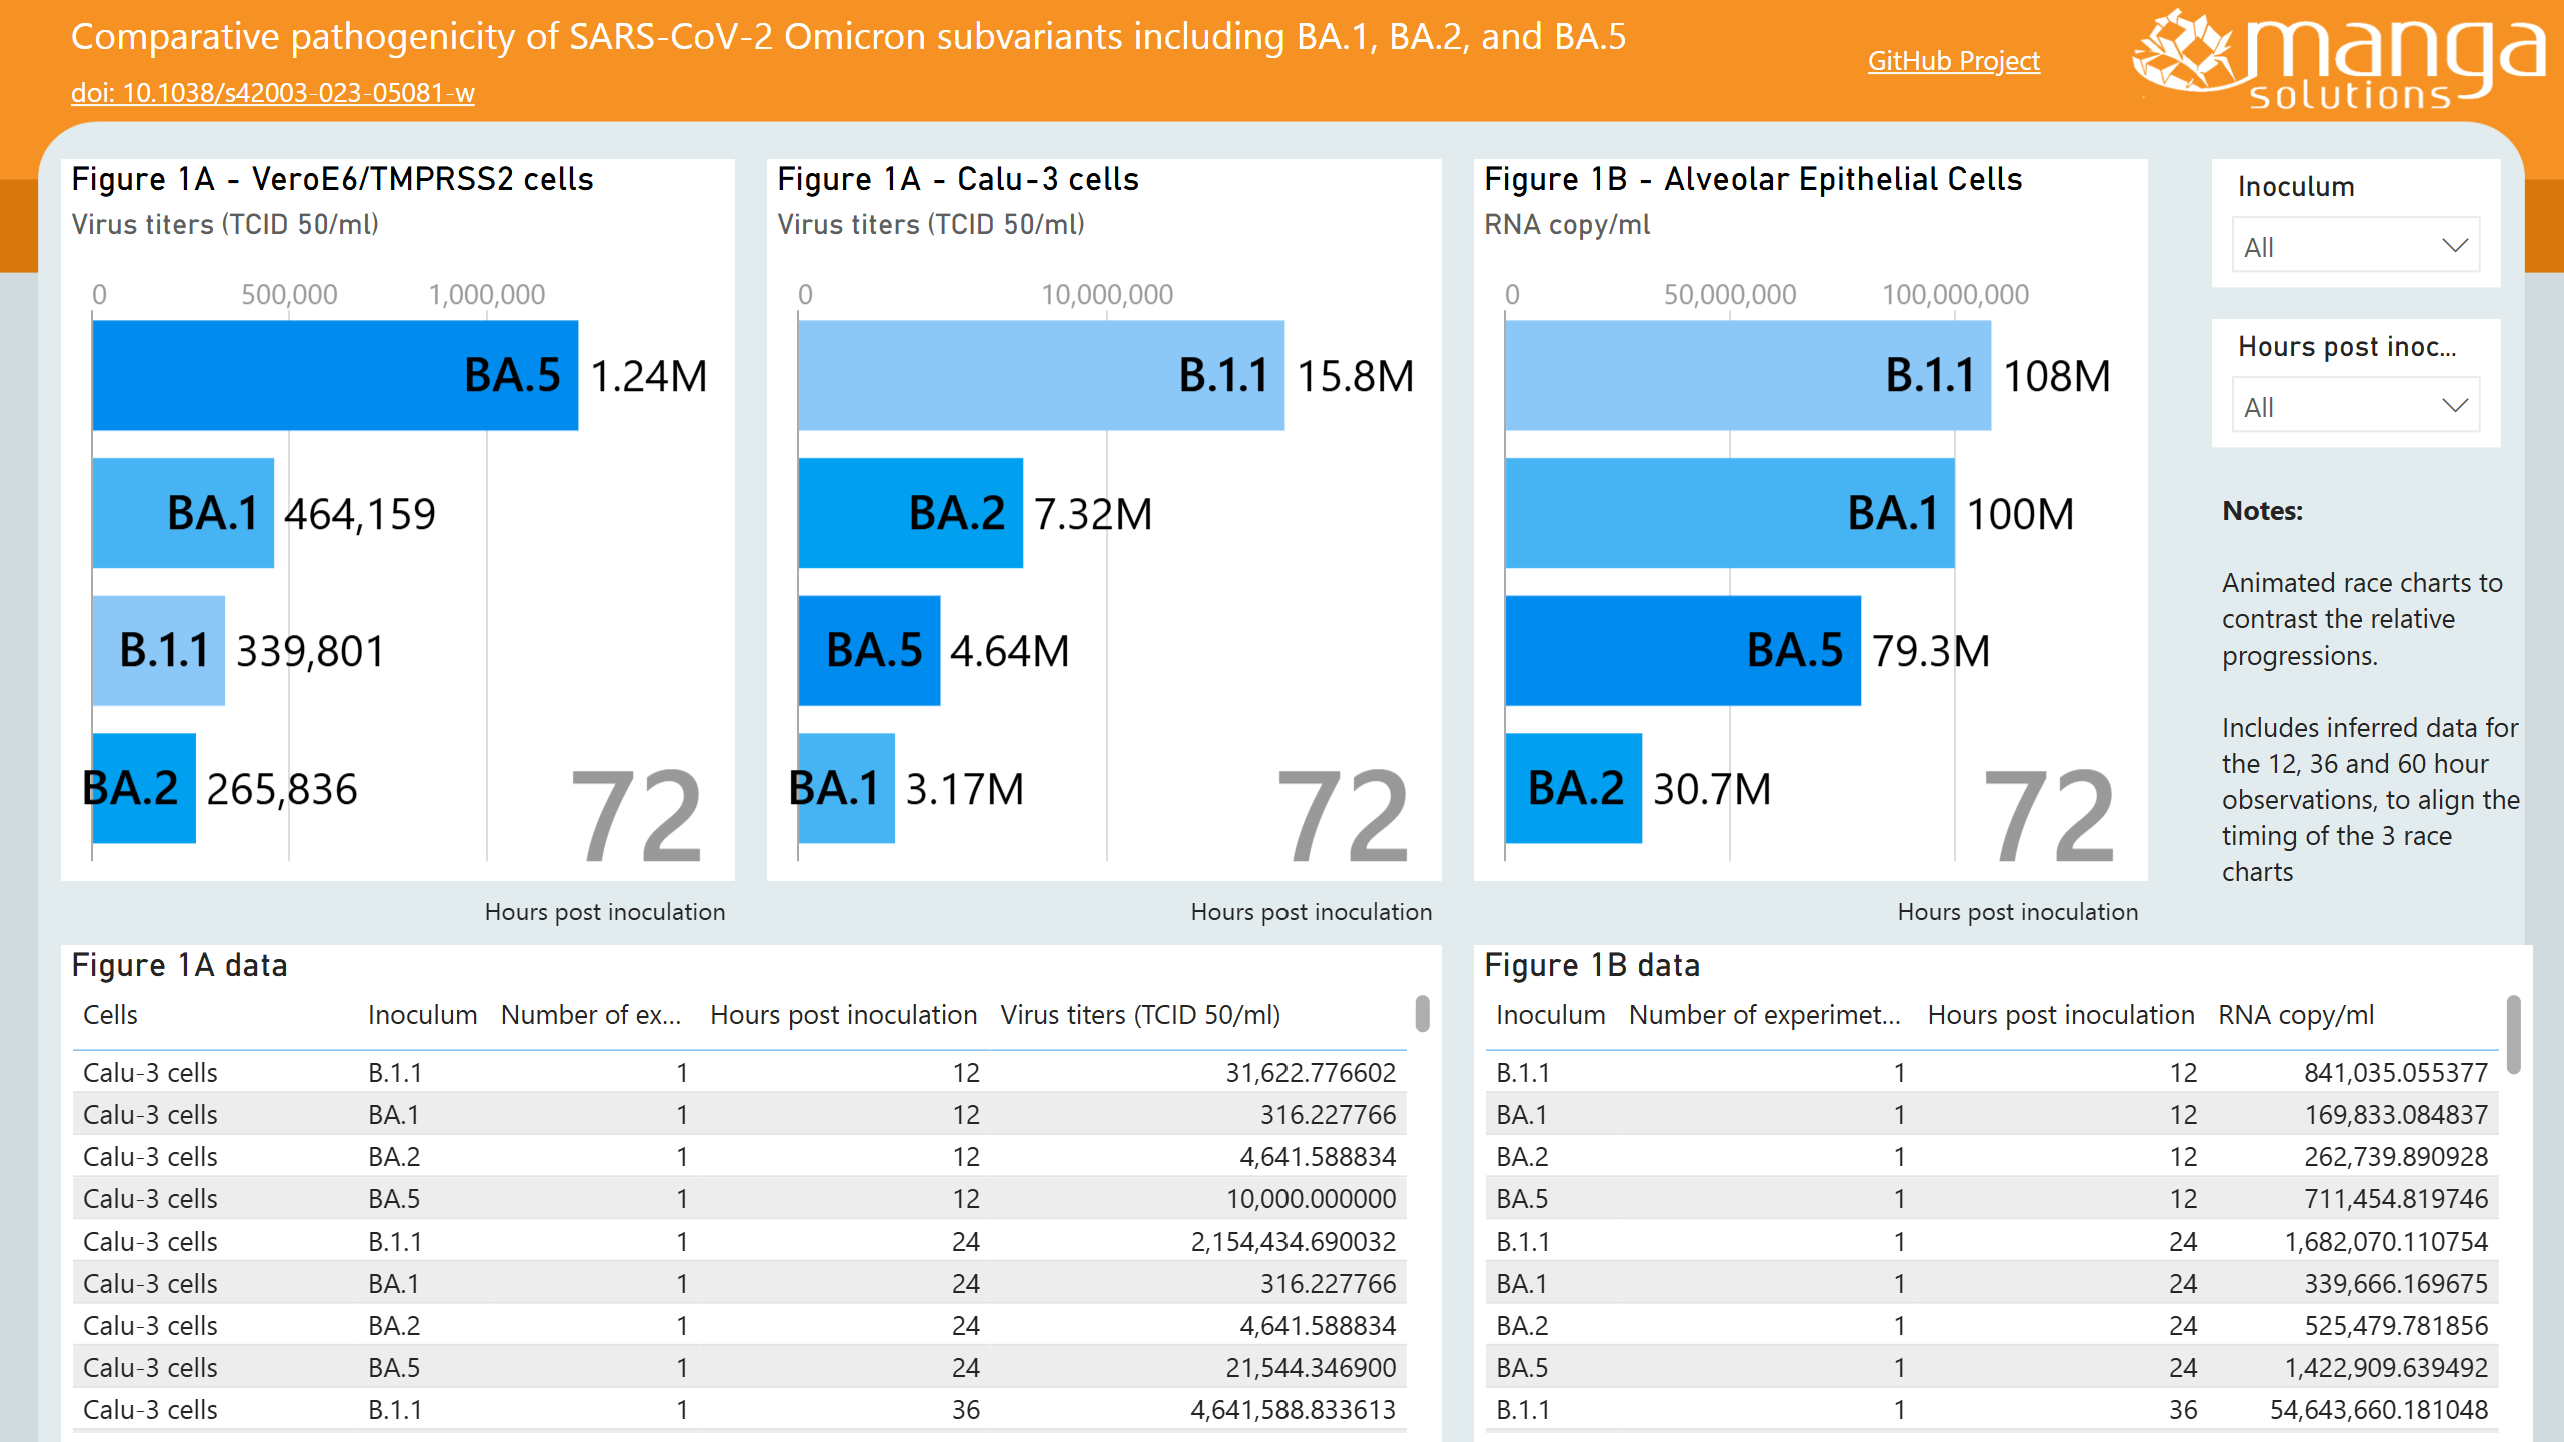

This screenshot's page, from the dashboard's own definition file:
{"tool":"powerbi","page":{"name":"Race Charts","canvas":[1280,720],"ordinal":3},"visuals":[{"type":"slicer","fields":{"Values":["Inoculums.Inoculum"]},"box":[1104,80,144,64],"z":0},{"type":"tableEx","title":"Figure 1A data","fields":{"Values":["Figure 1A.Cells","Inoculums.Inoculum","Figure 1A.Number of experimetal data","Hours.Hours post inoculation","Figure 1A.# Virus titers (TCID 50/ml) - 6 dec"]},"box":[32,472,688,248],"z":1000},{"type":"textbox","box":[32,0,864,48],"z":3000},{"type":"actionButton","box":[1056,0,224,64],"z":4000},{"type":"textbox","box":[32,32,304,32],"z":6000},{"type":"wishyoulizationbarchartrace","title":"Figure 1B - Alveolar Epithelial Cells","fields":{"name":["Inoculums.Inoculum"],"year":["Hours.Hours post inoculation"],"value":["Figure 1B.# RNA copy/ml - 6 dec"]},"box":[736,80,336,360],"z":7000},{"type":"tableEx","title":"Figure 1B data","fields":{"Values":["Inoculums.Inoculum","Figure 1B.Number of experimetal data","Hours.Hours post inoculation","Figure 1B.# RNA copy/ml - 6 dec"]},"box":[736,472,528,248],"z":8000},{"type":"slicer","fields":{"Values":["Hours.Hours post inoculation"]},"box":[1104,160,144,64],"z":9000},{"type":"wishyoulizationbarchartrace","title":"Figure 1A - VeroE6/TMPRSS2 cells","fields":{"name":["Inoculums.Inoculum"],"year":["Hours.Hours post inoculation"],"value":["Figure 1A.# Virus titers (TCID 50/ml) - 6 dec"]},"box":[32,80,336,360],"z":9001},{"type":"wishyoulizationbarchartrace","title":"Figure 1A - Calu-3 cells","fields":{"name":["Inoculums.Inoculum"],"year":["Hours.Hours post inoculation"],"value":["Figure 1A.# Virus titers (TCID 50/ml) - 6 dec"]},"box":[384,80,336,360],"z":9002},{"type":"textbox","box":[1104,240,160,224],"z":9003},{"type":"textbox","box":[912,440,160,32],"z":9004},{"type":"textbox","box":[560,440,160,32],"z":9005},{"type":"textbox","box":[208,440,160,32],"z":9006},{"type":"textbox","box":[896,16,128,32],"z":9007}]}

Visuals, with their boxes in screenshot pixels (x1, y1, x2, y2), scaled from the page's 1280x720 canvas onto the 2564x1442 screenshot:
slicer - Inoculums.Inoculum: [2211,160,2500,288]
"Figure 1A data" tableEx: [64,945,1442,1441]
textbox: [64,0,1795,96]
actionButton: [2115,0,2563,128]
textbox: [64,64,673,128]
"Figure 1B - Alveolar Epithelial Cells" wishyoulizationbarchartrace: [1474,160,2147,881]
"Figure 1B data" tableEx: [1474,945,2532,1441]
slicer - Hours.Hours post inoculation: [2211,320,2500,449]
"Figure 1A - VeroE6/TMPRSS2 cells" wishyoulizationbarchartrace: [64,160,737,881]
"Figure 1A - Calu-3 cells" wishyoulizationbarchartrace: [769,160,1442,881]
textbox: [2211,481,2532,929]
textbox: [1827,881,2147,945]
textbox: [1122,881,1442,945]
textbox: [417,881,737,945]
textbox: [1795,32,2051,96]
